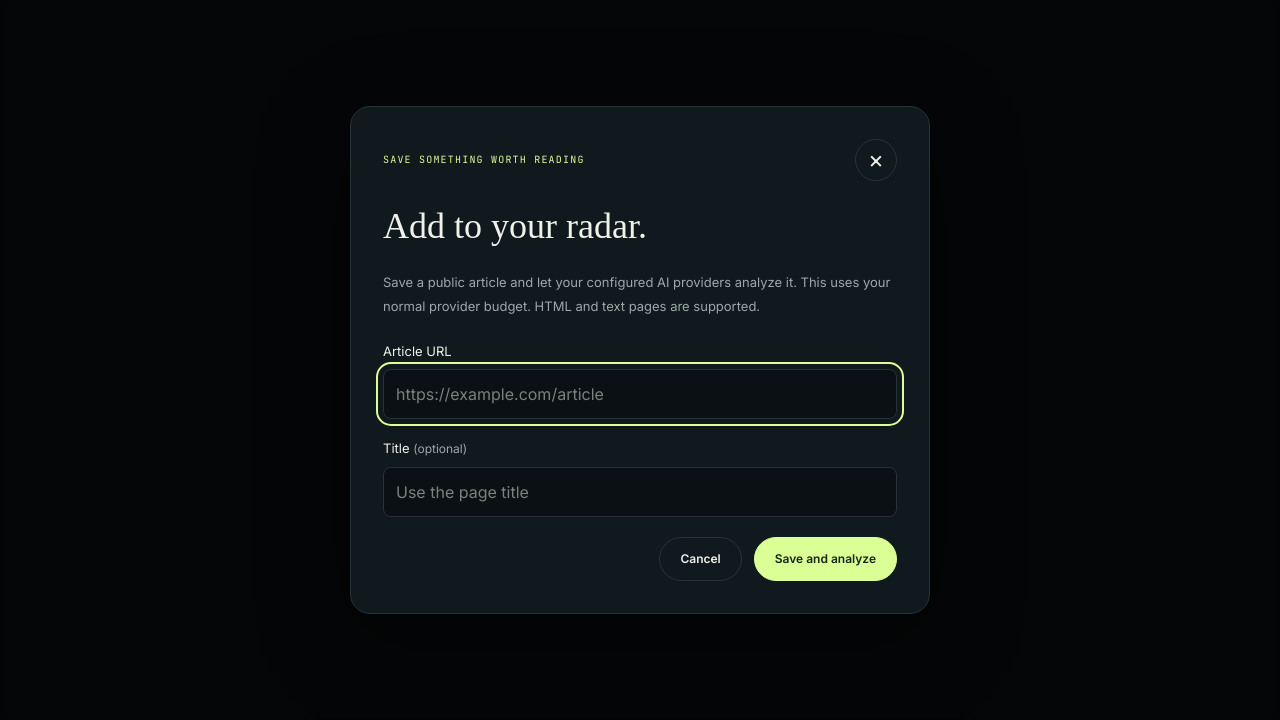
Test: shows partial outcomes without treating the saved article as a failed write
Type "https://example.org/article" into the field labelled "Article URL" at point(640, 394), box [383,369,897,419]
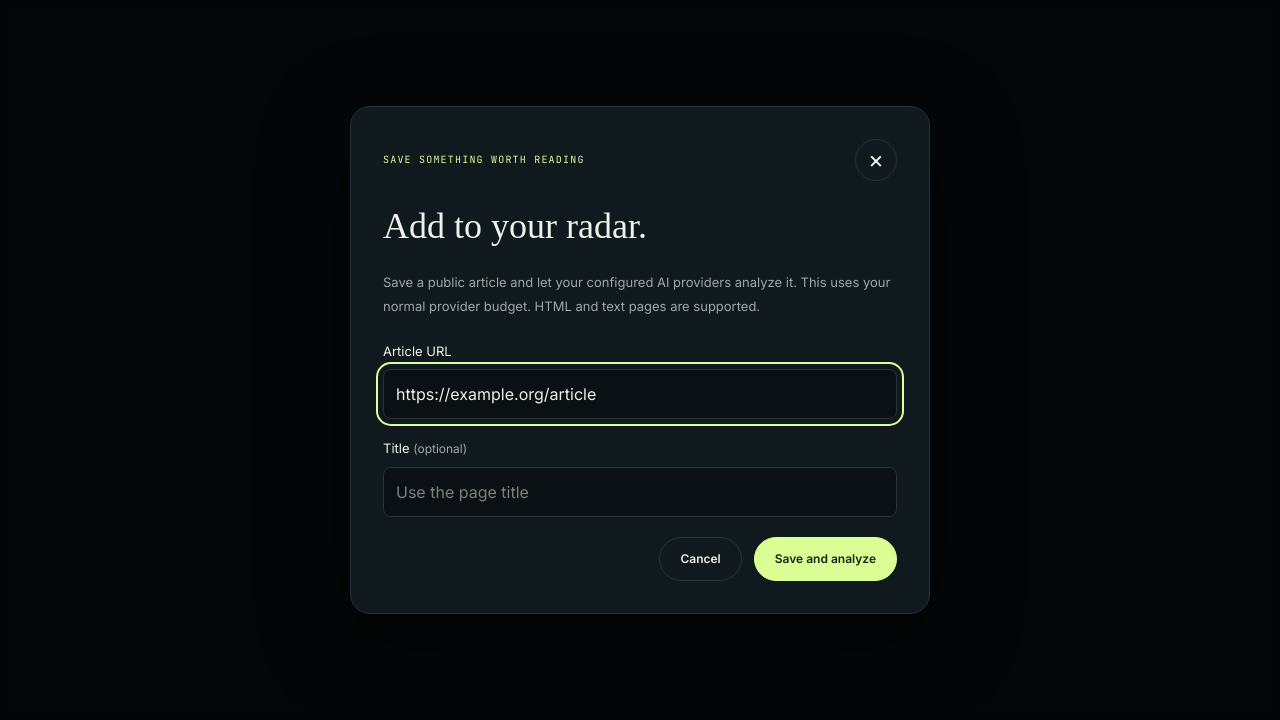
Click the button "Save and analyze" at point(825, 559), box [754,537,897,581]
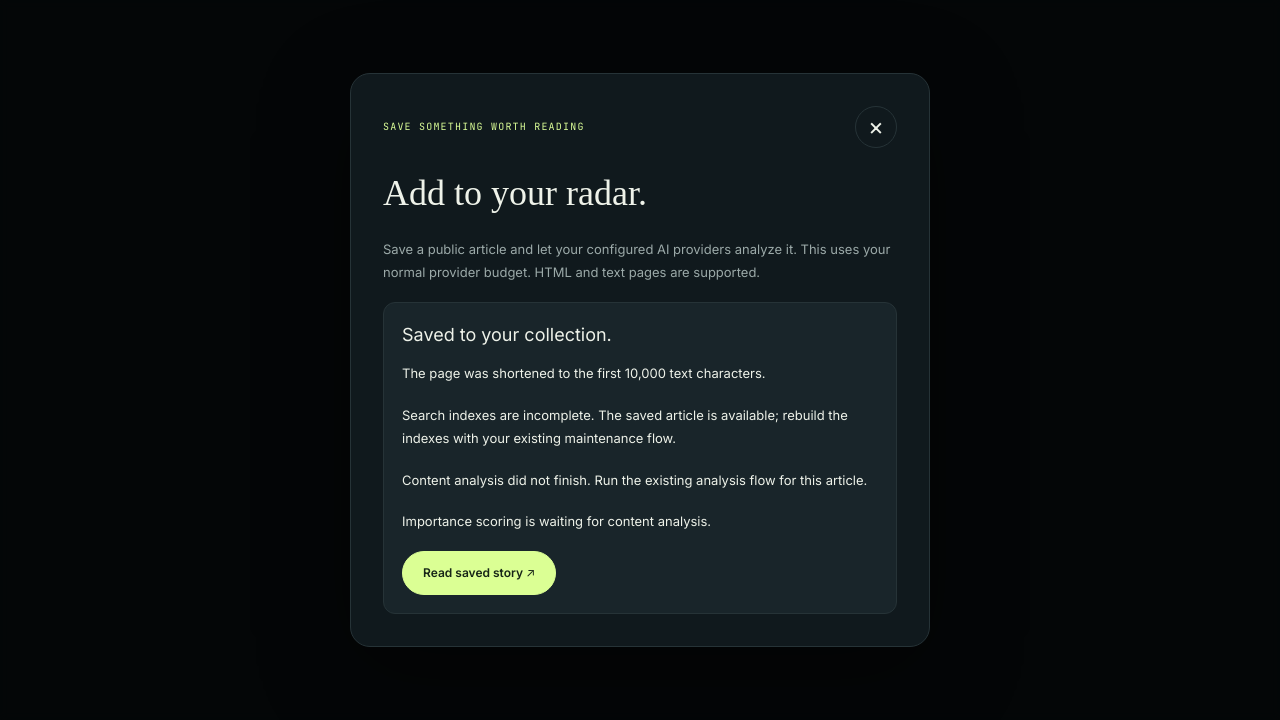
Now the heading "Saved to your collection." is shown, box [402,324,612,345]
Now the text "Search indexes are incomplete" is shown, box [402,407,848,446]
Now the text "The page was shortened to the first 10,000 text characters." is shown, box [402,365,766,381]
